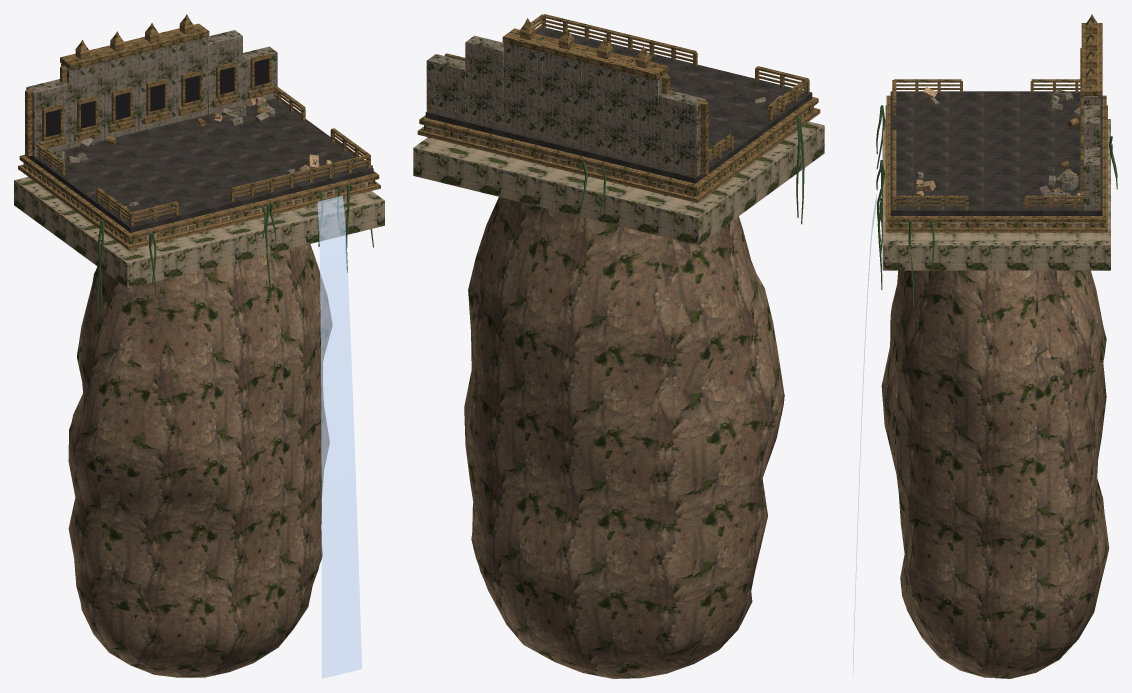
Rendered from Room_CombatC.fbx.
3 renders of one model, left to right at view 1: azimuth 30°, elevation 25°; view 2: azimuth 150°, elevation 25°; view 3: azimuth 270°, elevation 25°, orthographic. The views are drawn at different scales.
Parts seen in each view (by area): view 1: CombatC_Rock_LOD0, CombatC_Structure_LOD0, Waterfall_CombatC; view 2: CombatC_Rock_LOD0, CombatC_Structure_LOD0; view 3: CombatC_Rock_LOD0, CombatC_Structure_LOD0, Waterfall_CombatC.
Part boxes in pixels (x1,y1,x2,y2): CombatC_Rock_LOD0: (68,244,332,677); CombatC_Structure_LOD0: (14,14,384,315); Waterfall_CombatC: (317,195,361,678); CombatC_Rock_LOD0: (464,197,784,678); CombatC_Structure_LOD0: (413,14,824,245); CombatC_Rock_LOD0: (881,270,1109,678); CombatC_Structure_LOD0: (876,14,1117,306); Waterfall_CombatC: (853,194,876,676).
Size of what is drawn, in the model's own units: 26.53 by 57.64 by 22.49.
